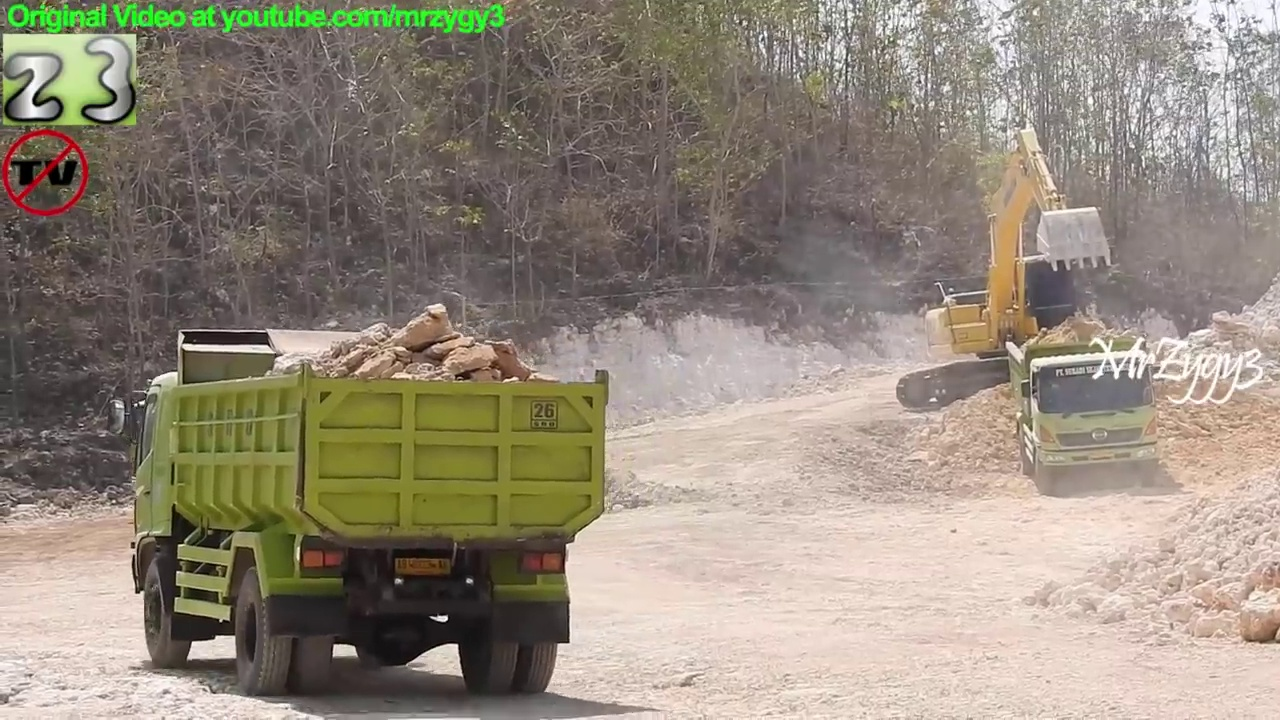excavator: (893, 121, 1154, 414)
truck: (105, 328, 613, 700), (1002, 327, 1172, 495)
